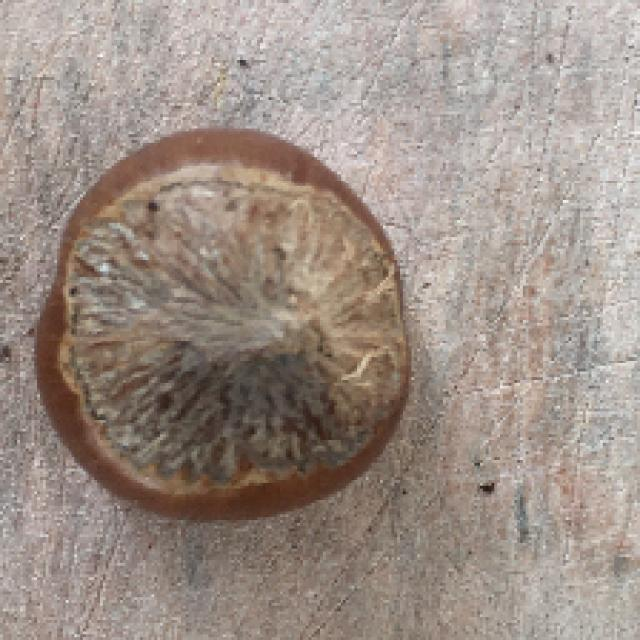qualityHazelnut: (35, 128, 414, 529)
